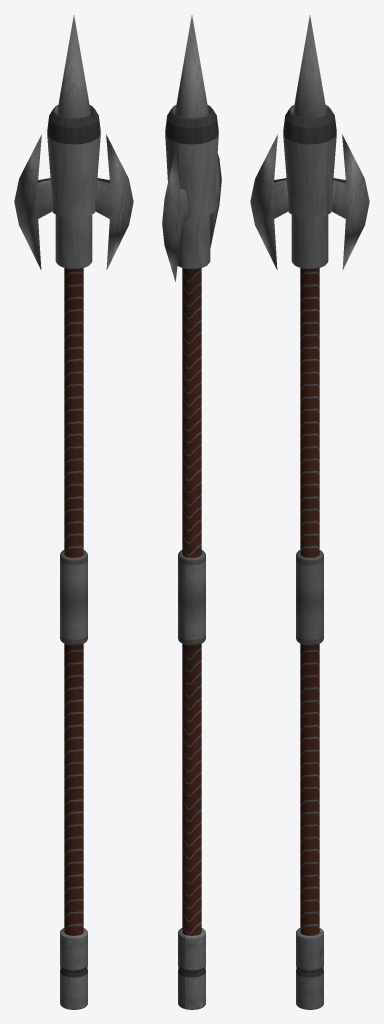
Rendered from Gungnir.FBX.
3 views of the same model, side by side, from view 1: azimuth 90°, elevation 25°; view 2: azimuth 150°, elevation 25°; view 3: azimuth 270°, elevation 25° (orthographic).
Visible parts, largest first — view 1: Gungnir; view 2: Gungnir; view 3: Gungnir.
Boxes of the visible parts, x1,y1,x2,y2 form: Gungnir: [14, 15, 133, 1009]; Gungnir: [162, 15, 221, 1009]; Gungnir: [250, 15, 369, 1009].
Bounding box in the file's own units: 140 × 2814 × 308.
3 materials, 3 textured.
